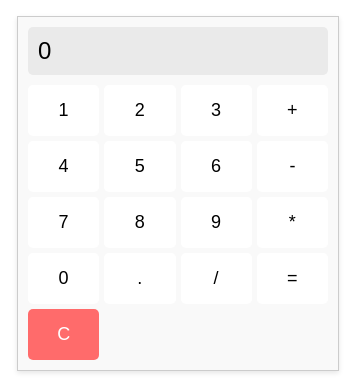
Scenario: 複数桁の入力が正しく処理されること
This screenshot has width=357, height=391.
Click the button "1" at (64, 110), box left=28, top=84, right=99, bottom=136
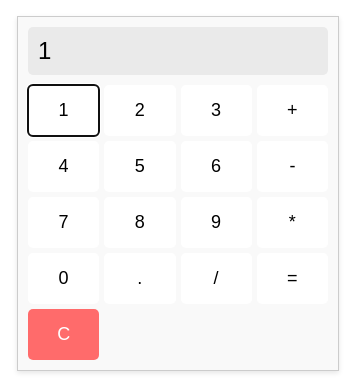
Click the button "2" at (140, 110), box left=104, top=84, right=176, bottom=136
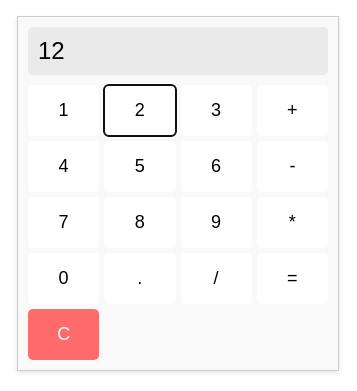
Click the button "3" at (216, 110), box left=180, top=84, right=252, bottom=136
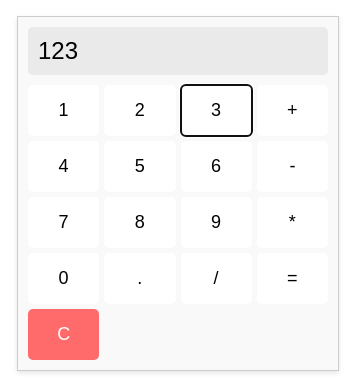
Expected: the text named "input" reads "123", left=38, top=36, right=78, bottom=64
